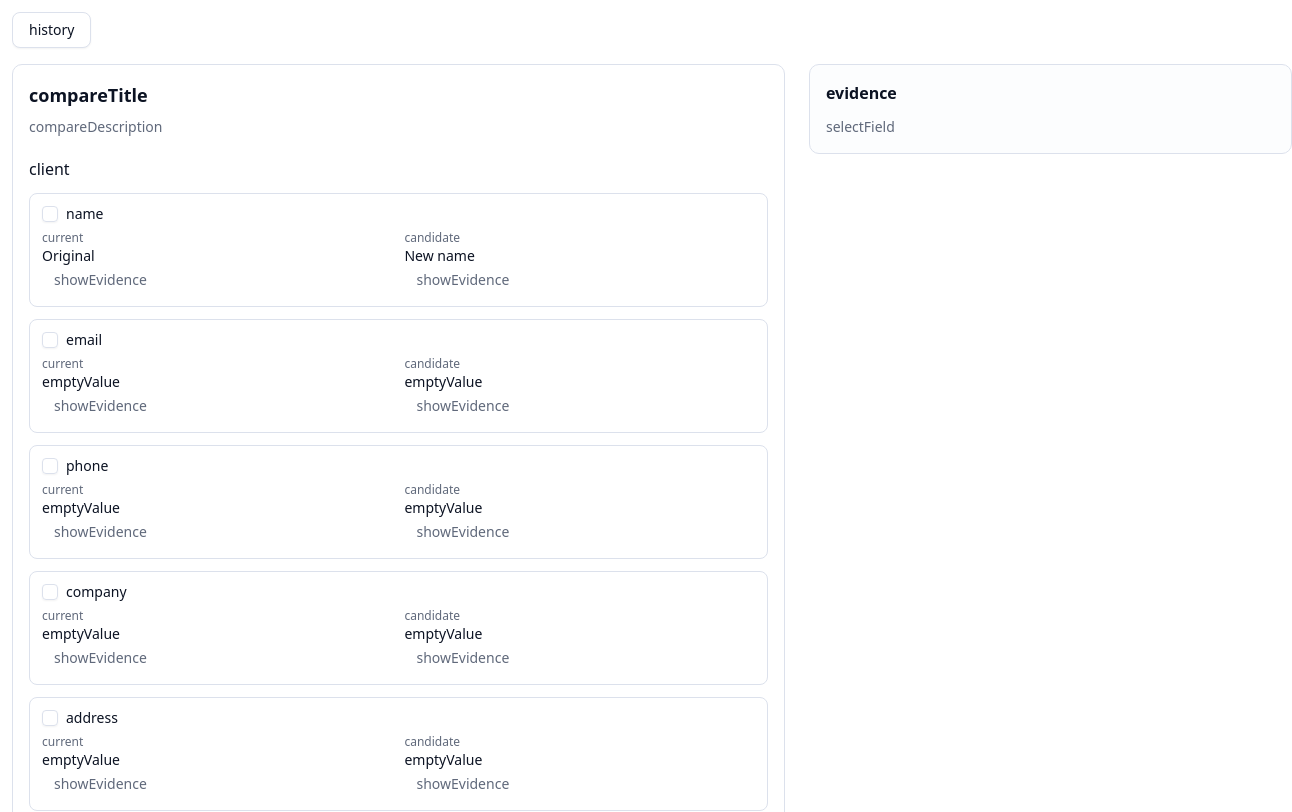
Test: ConversationReviewContainer › loads a persisted candidate and preserves comparison selections while viewing history
Step 1. Click the 1st checkbox named "takeField" → (50, 214), box [42, 206, 58, 222]
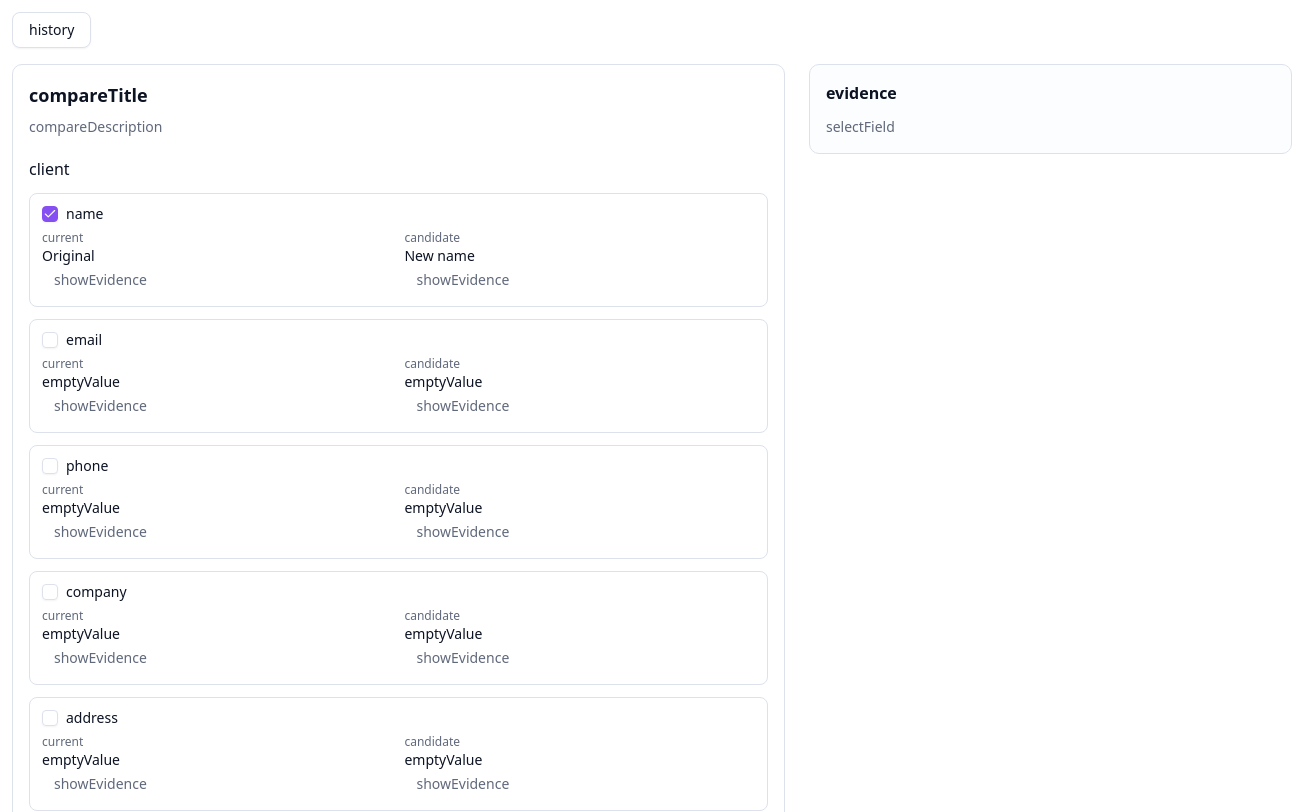
Step 2. Click the button "history" → (52, 30), box [12, 12, 91, 48]
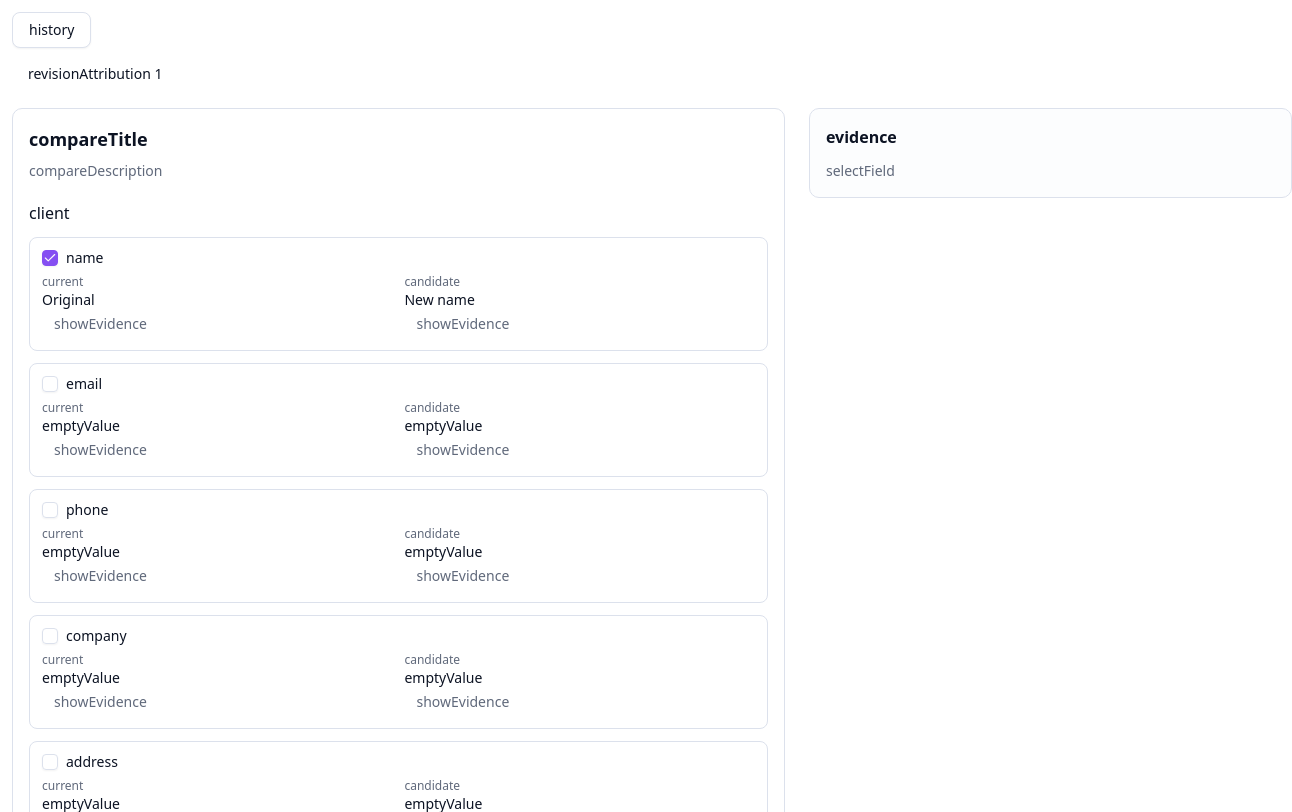
Check: the button "revisionAttribution 1" is shown
Step 3. Click the button "revisionAttribution 1" → (95, 74), box [12, 56, 178, 92]
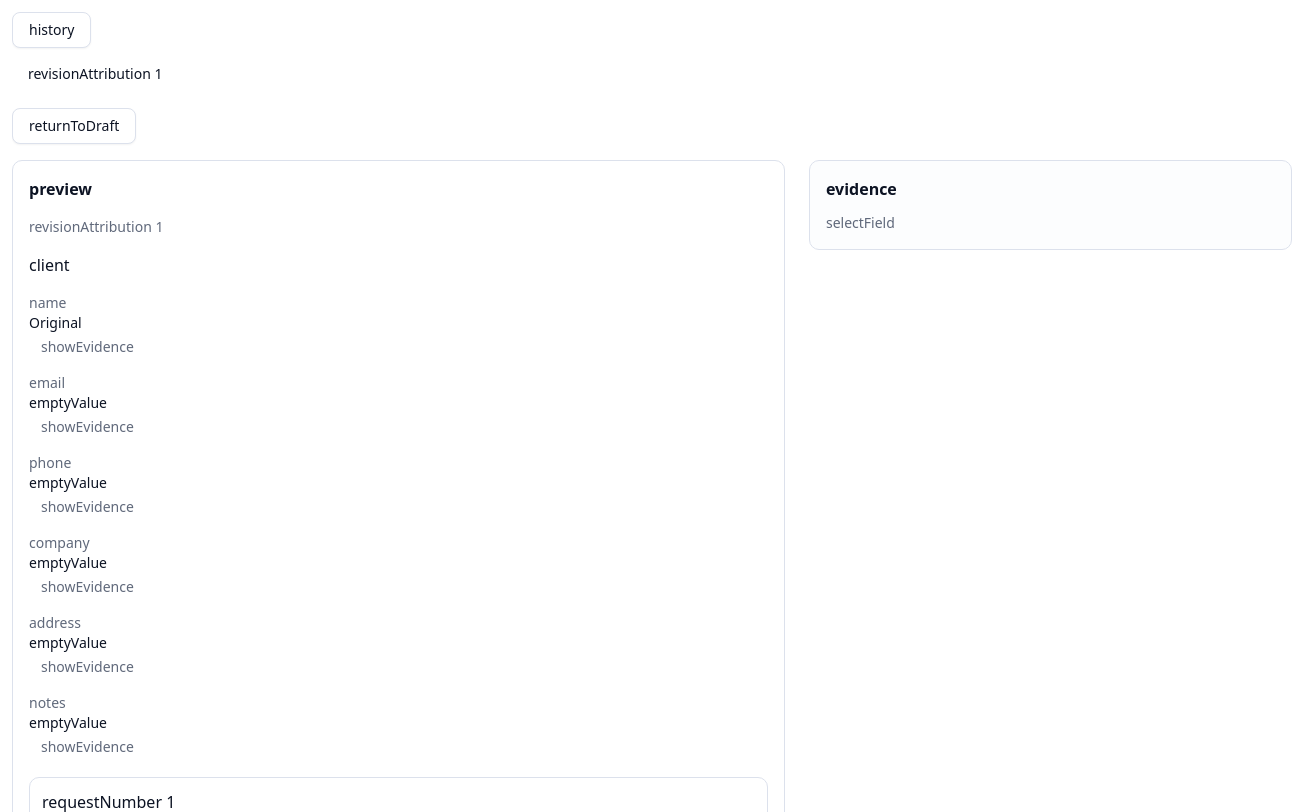
Check: the heading "compareTitle" is gone
Step 4. Click the button "returnToDraft" → (74, 126), box [12, 108, 136, 144]
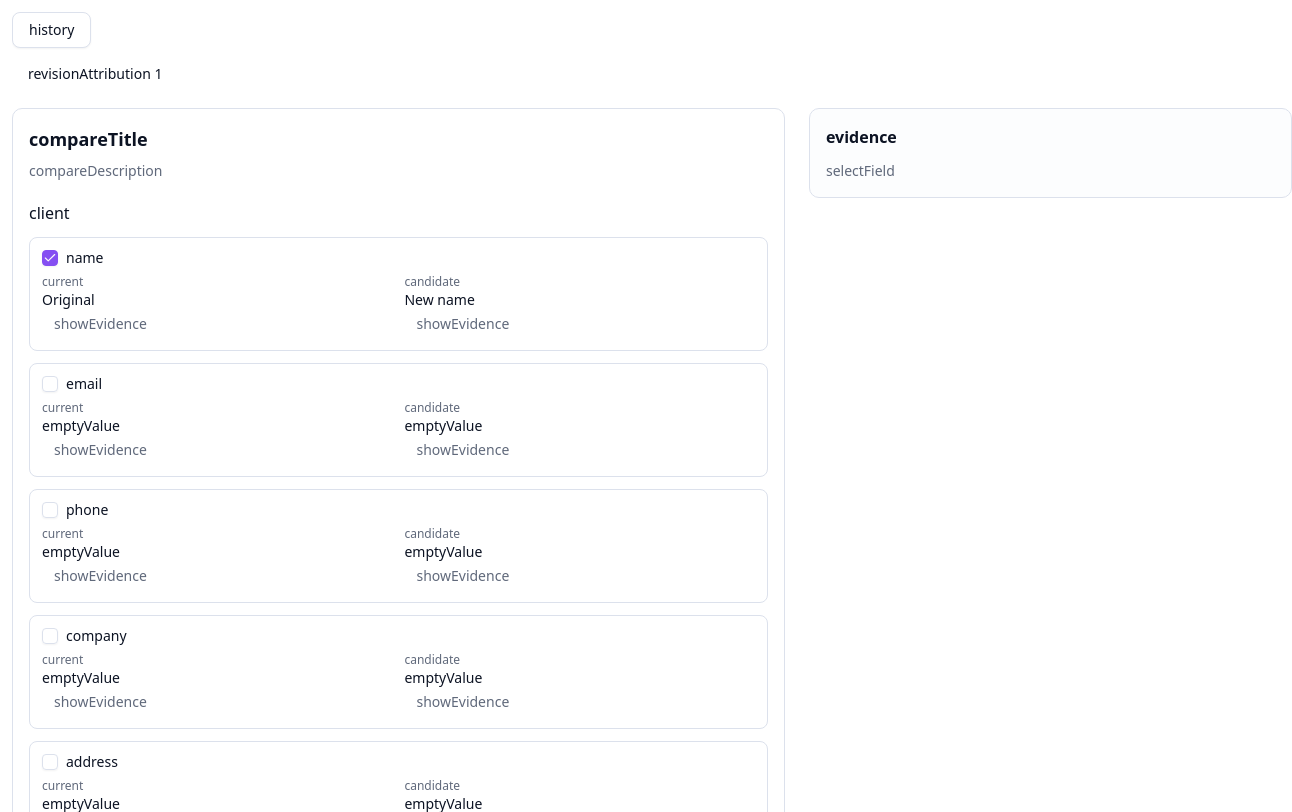
Check: the 1st checkbox named "takeField" has attribute data-state="checked", box [42, 250, 58, 266]
